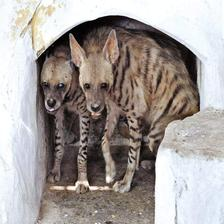hyena: (64, 28, 216, 198), (26, 44, 94, 210)
